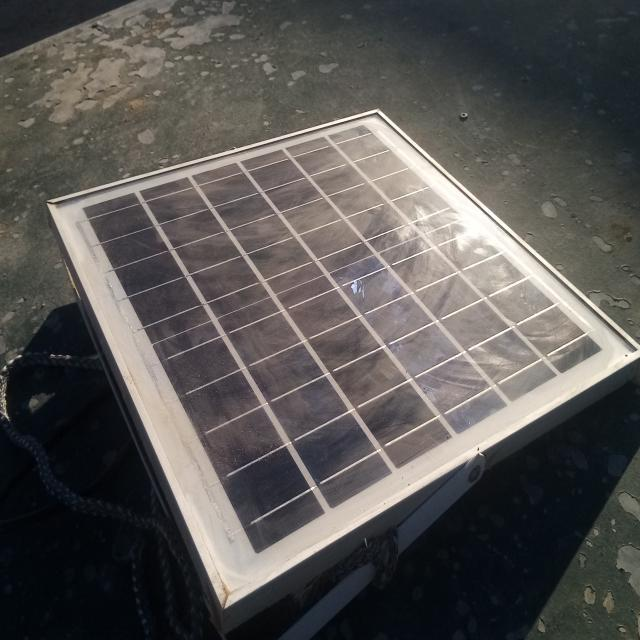faulty: (48, 111, 635, 595)
